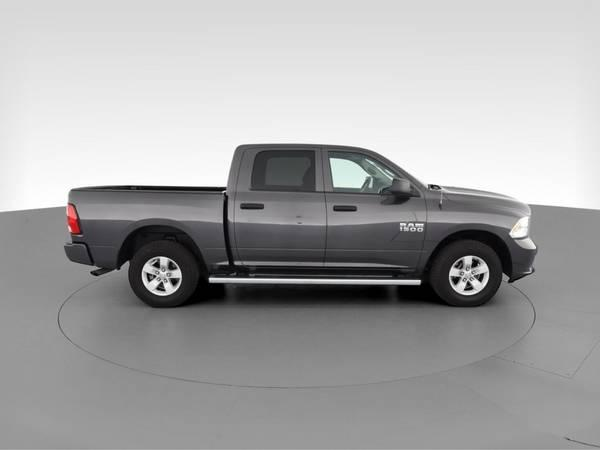Front_Bumper: (503, 234, 537, 283)
Front_Fender: (416, 192, 526, 273)
Front_Right_Door: (324, 191, 427, 272)
Front_Right_Window: (323, 144, 427, 197)
Hood: (434, 182, 528, 212)
Rear_Bumper: (64, 242, 93, 266)
Rear_Fender: (69, 190, 228, 271)
Rear_Right_Door: (226, 190, 327, 271)
Rear_Right_Window: (228, 145, 326, 191)
Right_Headlight: (509, 213, 532, 238)
Right_Taillight: (67, 202, 82, 237)
Wheel: (431, 239, 503, 309), (126, 238, 198, 308)
